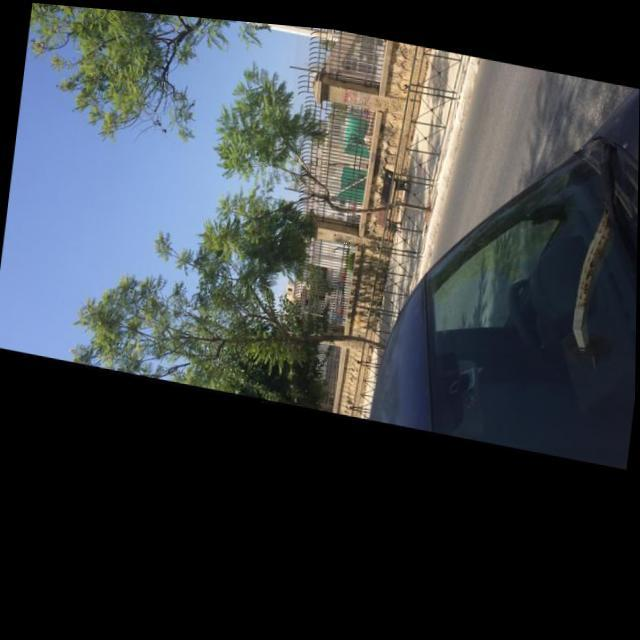-: (333, 227, 357, 240)
